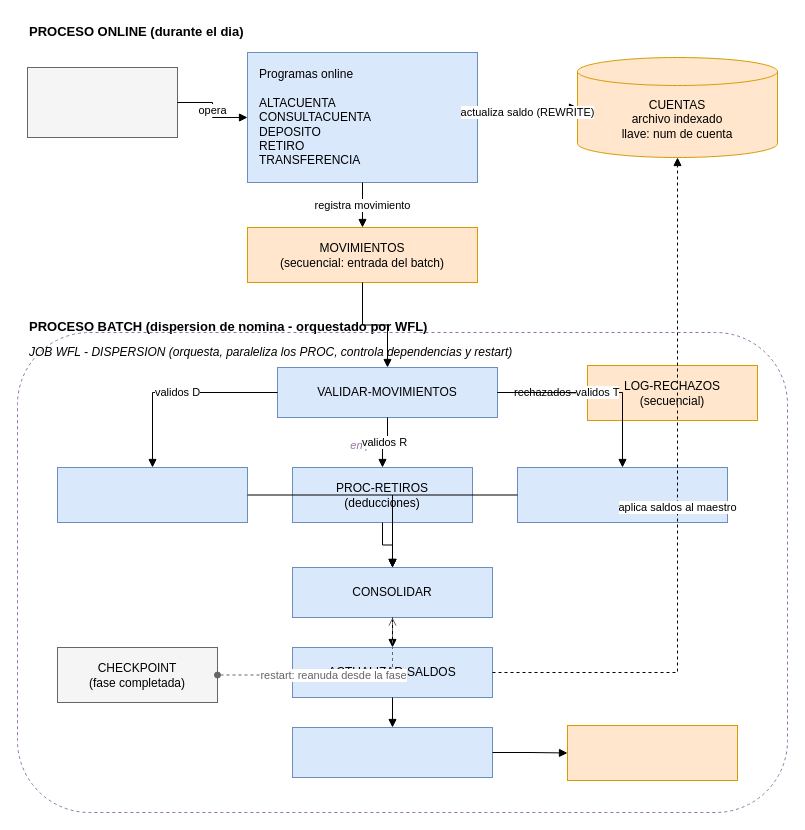
This 805x830 diagram has some shape labels left out. The shapes that lost their labels are listed below. From the top down, each one's centre as x and y in pixels, then its label:
the point at 102,102: Cajero / App / Empresa
the point at 152,494: PROC-DEPOSITOS (abono de nomina)
the point at 622,494: PROC-TRANSFERENCIAS (a terceros)
the point at 392,752: GENERAR-REPORTES
the point at 652,752: REPORTE (secuencial)
